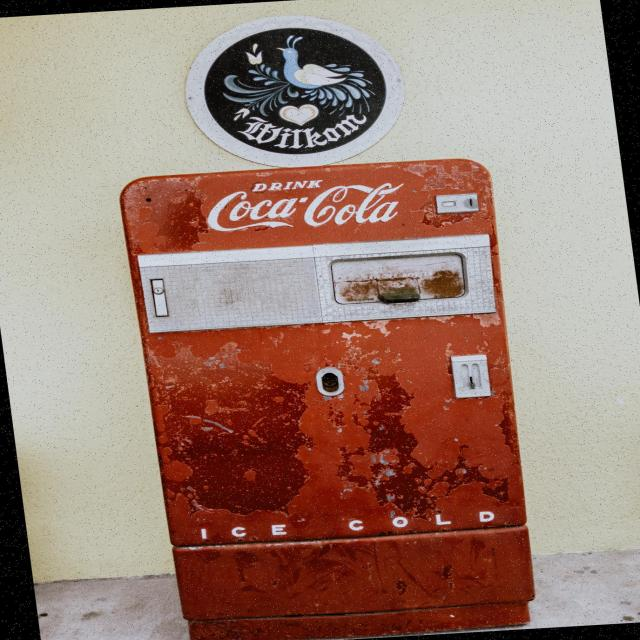coca-cola: (200, 178, 415, 234)
